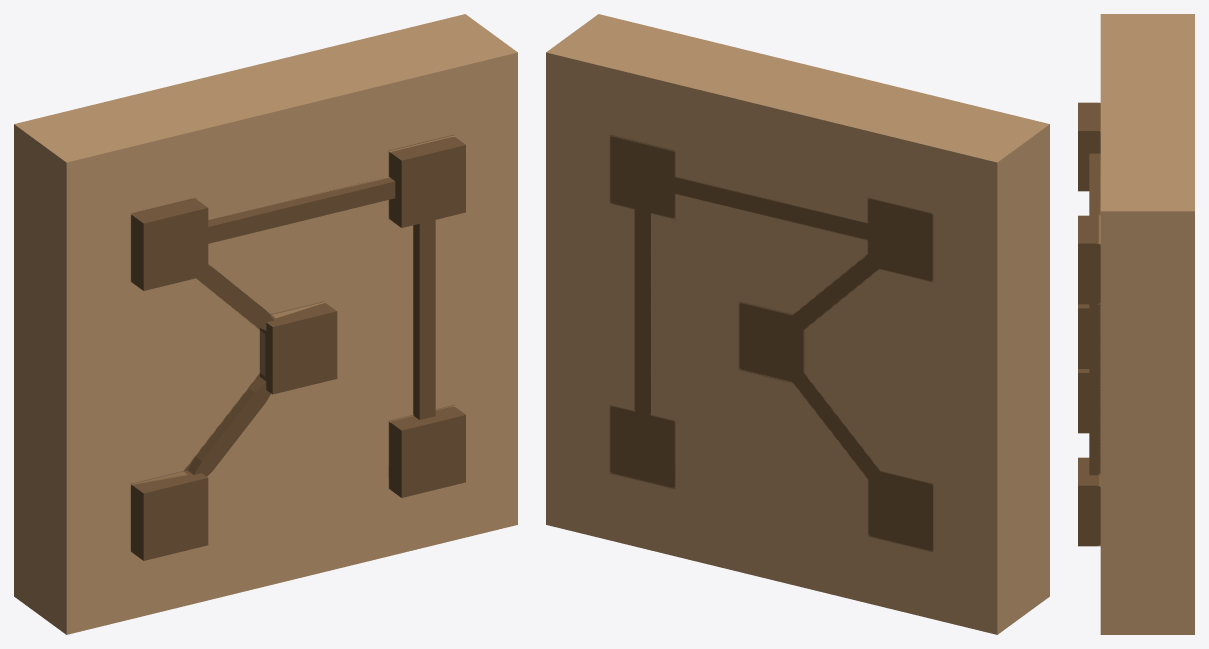
The model's file is ObjS_Key.fbx.
3 views of the same model, side by side, from view 1: azimuth 30°, elevation 25°; view 2: azimuth 150°, elevation 25°; view 3: azimuth 270°, elevation 25° (orthographic). The views are drawn at different scales.
Visible parts, largest first — view 1: pCube7; view 2: pCube7; view 3: pCube7.
Boxes of the visible parts, <box> form: pCube7: <box>14,14,517,634</box>; pCube7: <box>546,14,1049,634</box>; pCube7: <box>1078,14,1194,634</box>.
Size of the model in its own units: 140 by 140 by 35.03.
1 material, 1 textured.
